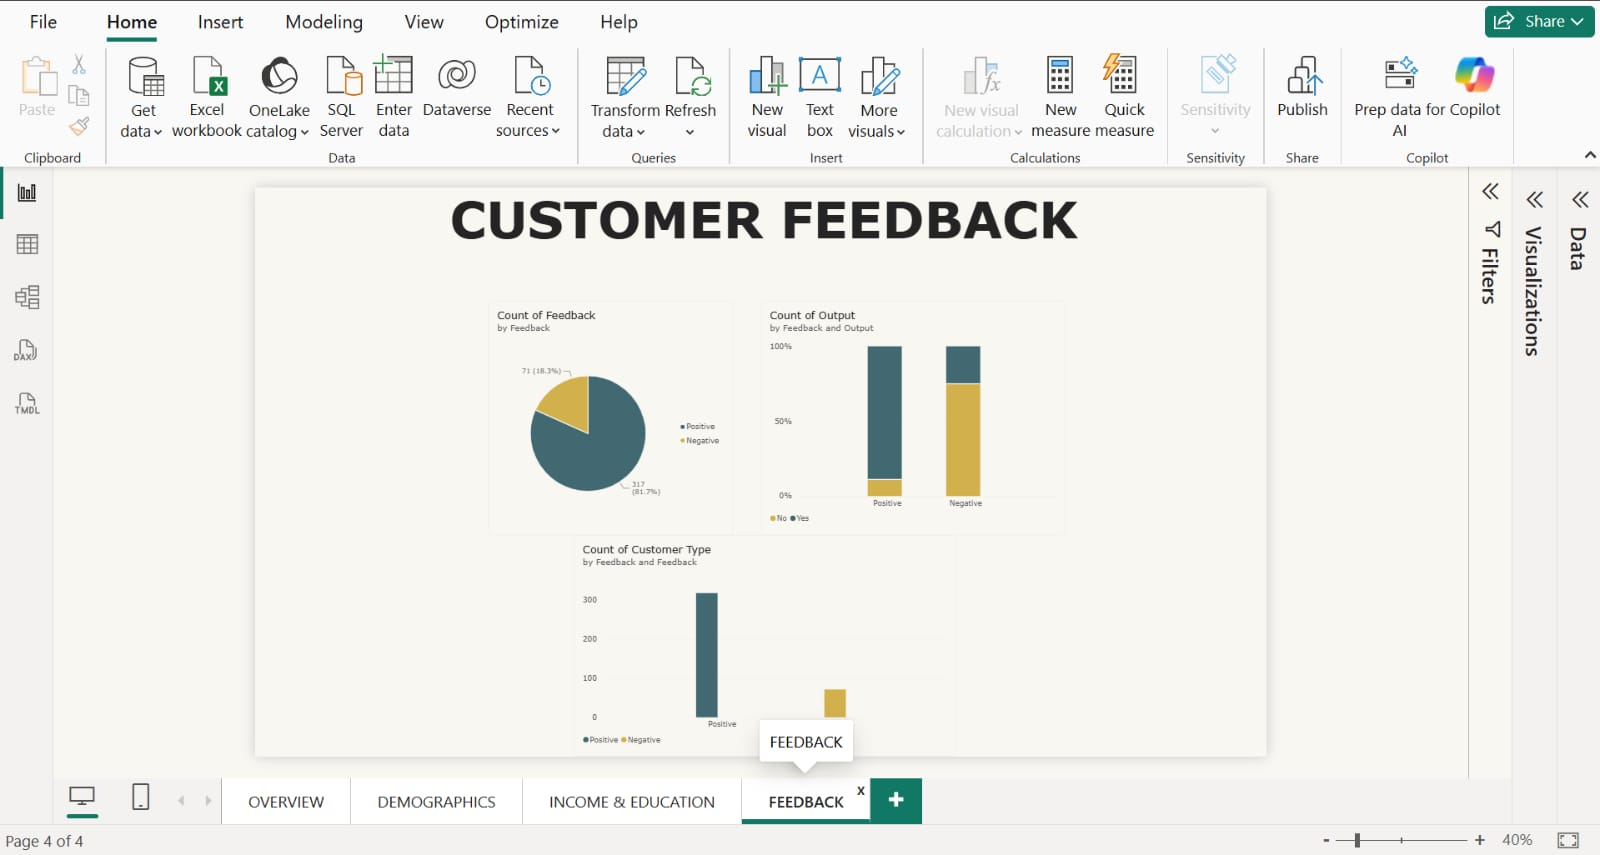

The dashboard page shown, as its layout file describes it:
{"tool":"powerbi","page":{"name":"FEEDBACK","canvas":[1920,1080],"ordinal":3},"visuals":[{"type":"textbox","box":[10,0,1910,120],"z":0},{"type":"pieChart","fields":{"Category":["food_delivery_clean.Feedback"],"Y":["CountNonNull(food_delivery_clean.Feedback)"]},"box":[442.5,215,465,445],"z":1000},{"type":"hundredPercentStackedColumnChart","fields":{"Category":["food_delivery_clean.Feedback"],"Series":["food_delivery_clean.Output"],"Y":["CountNonNull(food_delivery_clean.Output)"]},"box":[960,215,577.5,445],"z":1001},{"type":"clusteredColumnChart","fields":{"Category":["food_delivery_clean.Feedback"],"Series":["food_delivery_clean.Feedback"],"Y":["CountNonNull(food_delivery_clean.Customer Type)"]},"box":[605,660,725,420],"z":1002}]}

Visuals, with their boxes on the page's 1920x1080 design canvas (x1, y1, x2, y2). These are canvas units, not pixel positions in the 1600x855 screenshot, which may show the page scaled, cropped or inside an application window:
textbox: pyautogui.locateOnScreen(10, 0, 1920, 120)
pieChart - food_delivery_clean.Feedback x CountNonNull(food_delivery_clean.Feedback): pyautogui.locateOnScreen(442, 215, 908, 660)
hundredPercentStackedColumnChart - food_delivery_clean.Feedback x food_delivery_clean.Output: pyautogui.locateOnScreen(960, 215, 1538, 660)
clusteredColumnChart - food_delivery_clean.Feedback x food_delivery_clean.Feedback: pyautogui.locateOnScreen(605, 660, 1330, 1080)
